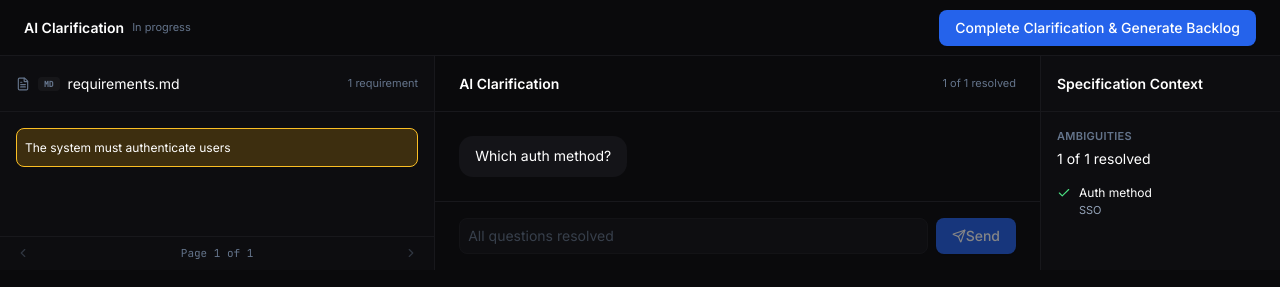
Test: ClarifyPage — Complete Clarification CTA › reports a server-side gate rejection without navigating away
This screenshot has width=1280, height=287.
Click the button "Complete Clarification & Generate Backlog". click: (1098,28)
box: [939, 10, 1256, 46]
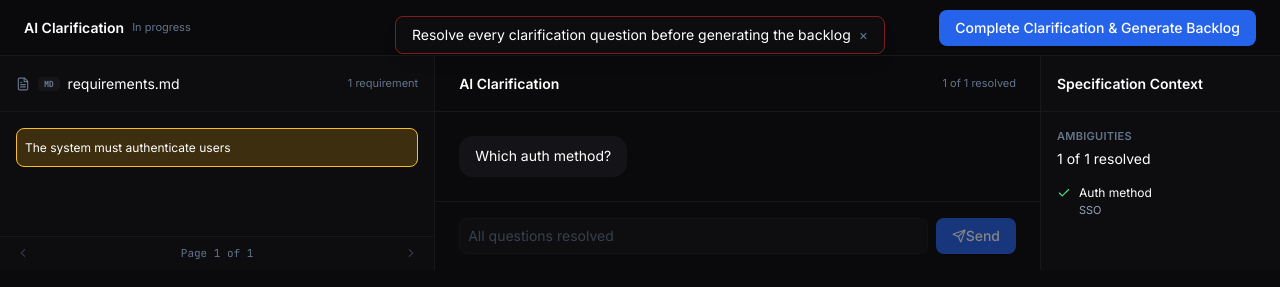
Expected: the text "Resolve every clarification question before generating the backlog" is shown, [412, 25, 851, 45]
